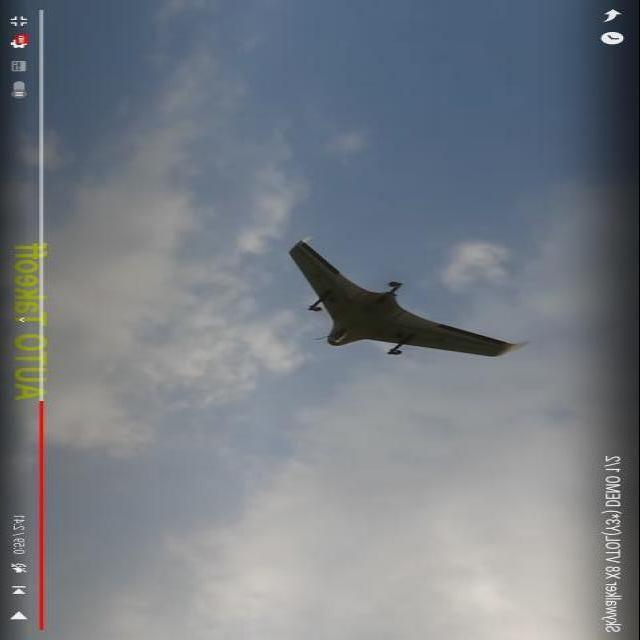iha: (265, 227, 504, 379)
